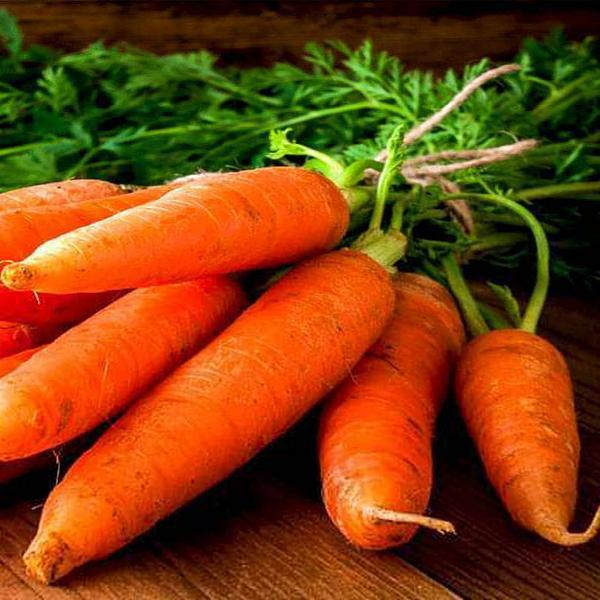carrot: (0, 173, 455, 567), (40, 247, 600, 556), (54, 257, 408, 560)
